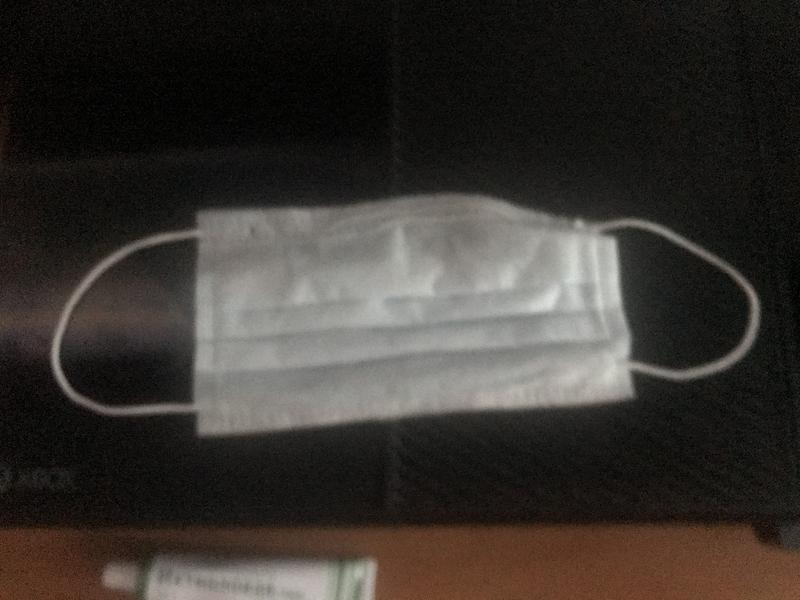medical_mask: (51, 191, 760, 438)
